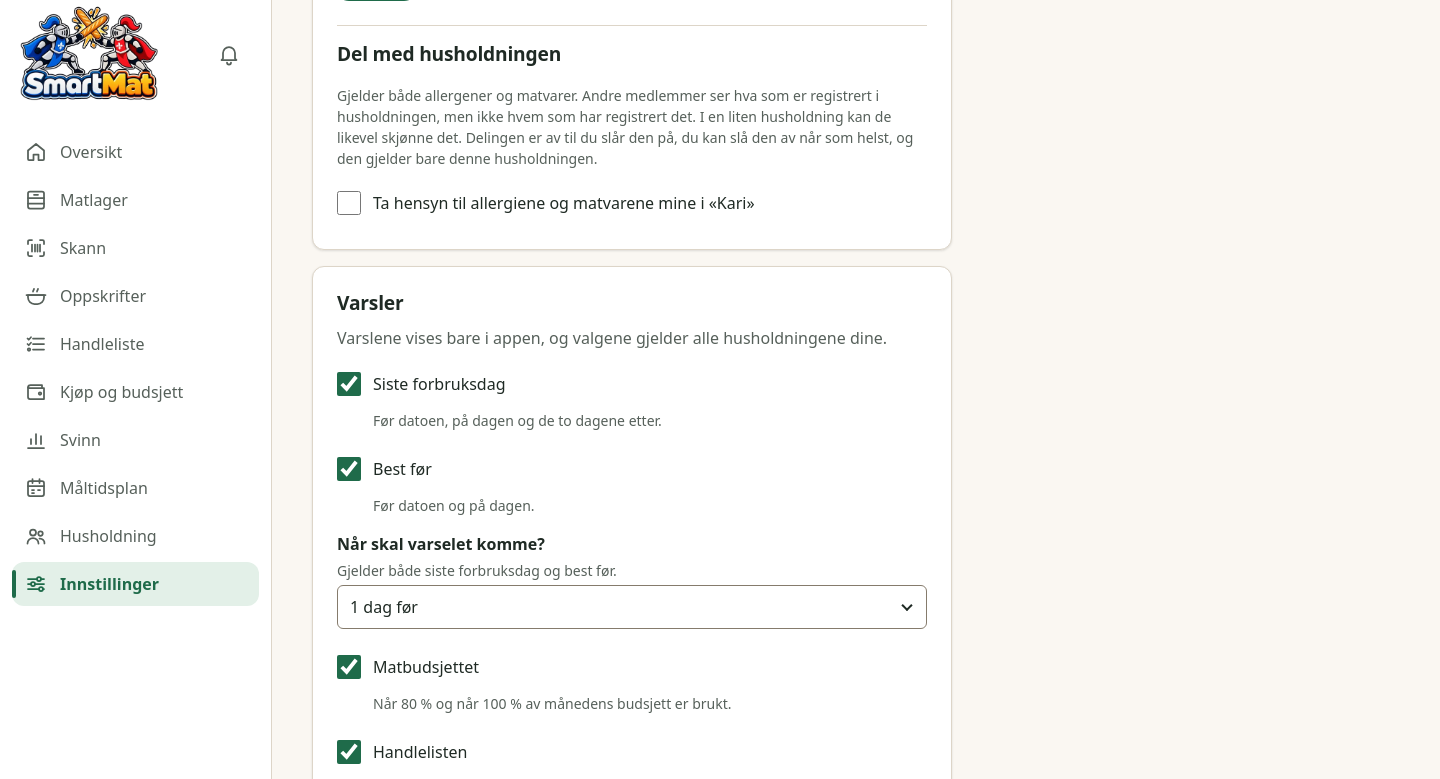
Scenario: FR-NOTIF-005 notification settings › turns off "how many days before" when neither date notification is on
The image size is (1440, 779).
(page scrolled)
Click the checkbox labelled "Siste forbruksdag". click: (349, 384)
box: left=337, top=372, right=361, bottom=396
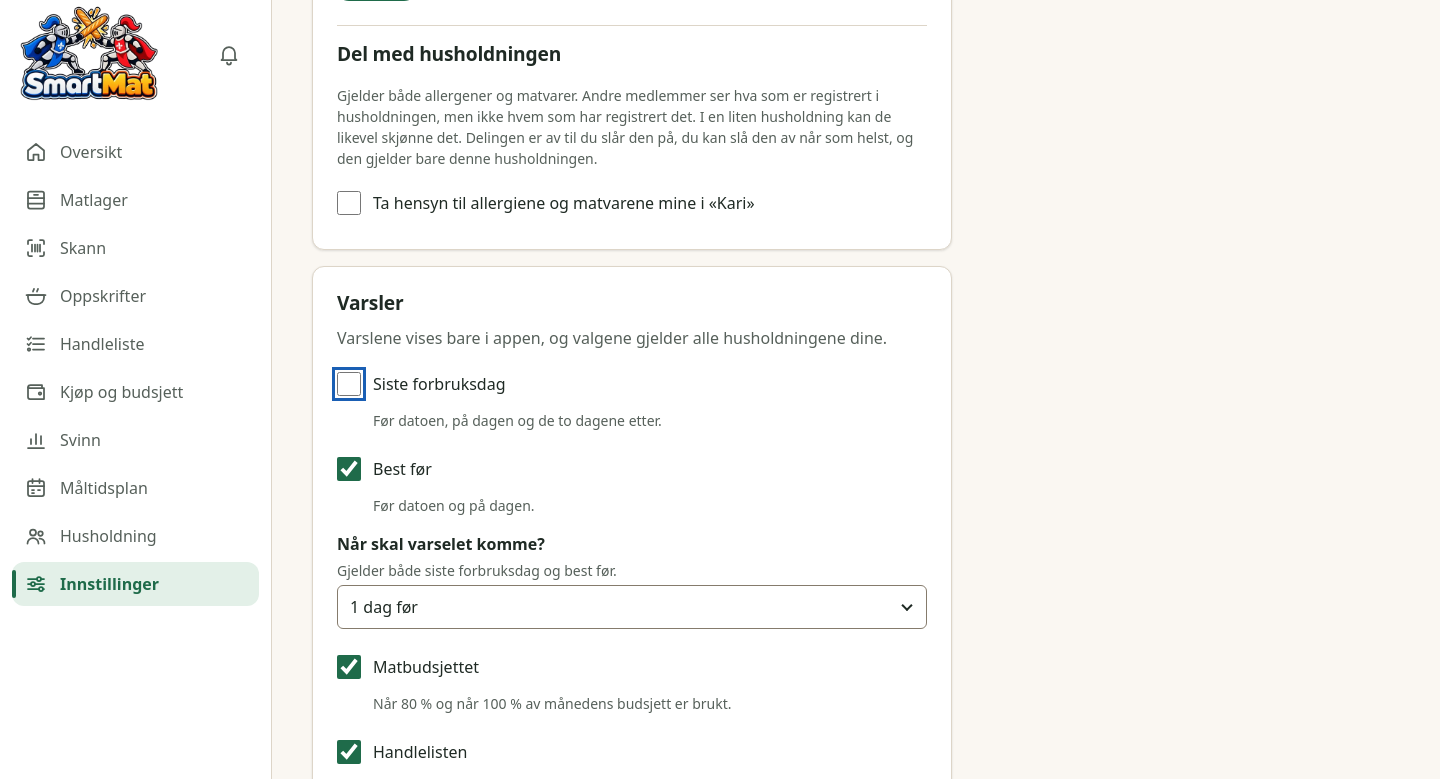
Click the checkbox labelled "Best før". click: (349, 469)
box: left=337, top=457, right=361, bottom=481
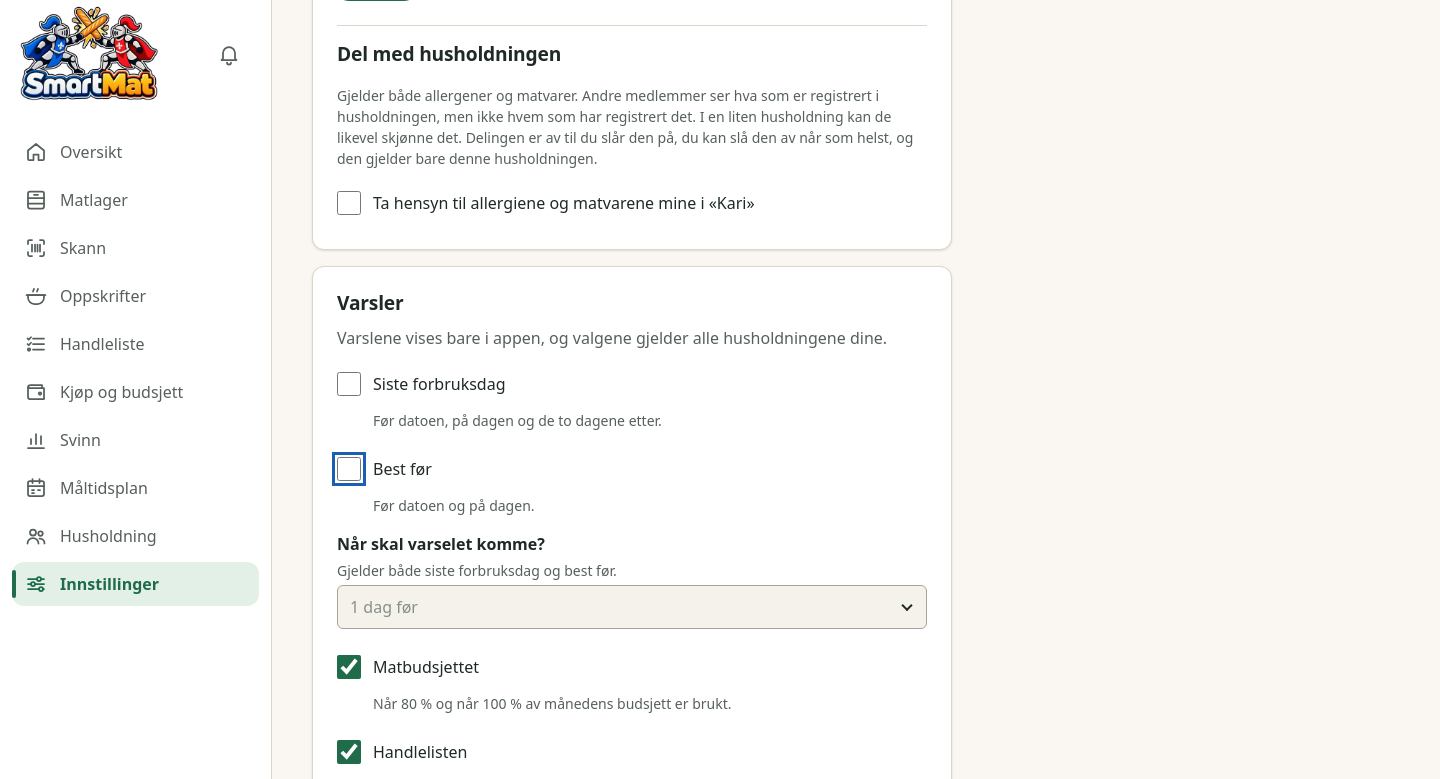
Expected: the dropdown labelled "Når skal varselet komme?" is disabled, left=337, top=585, right=927, bottom=629
